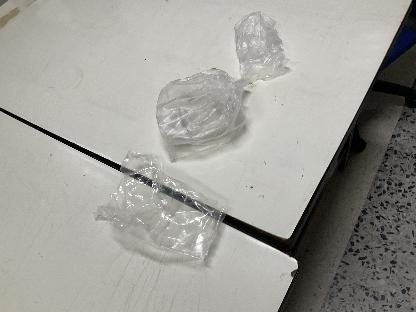Others: (98, 150, 230, 268), (146, 66, 250, 154), (233, 9, 293, 88)
